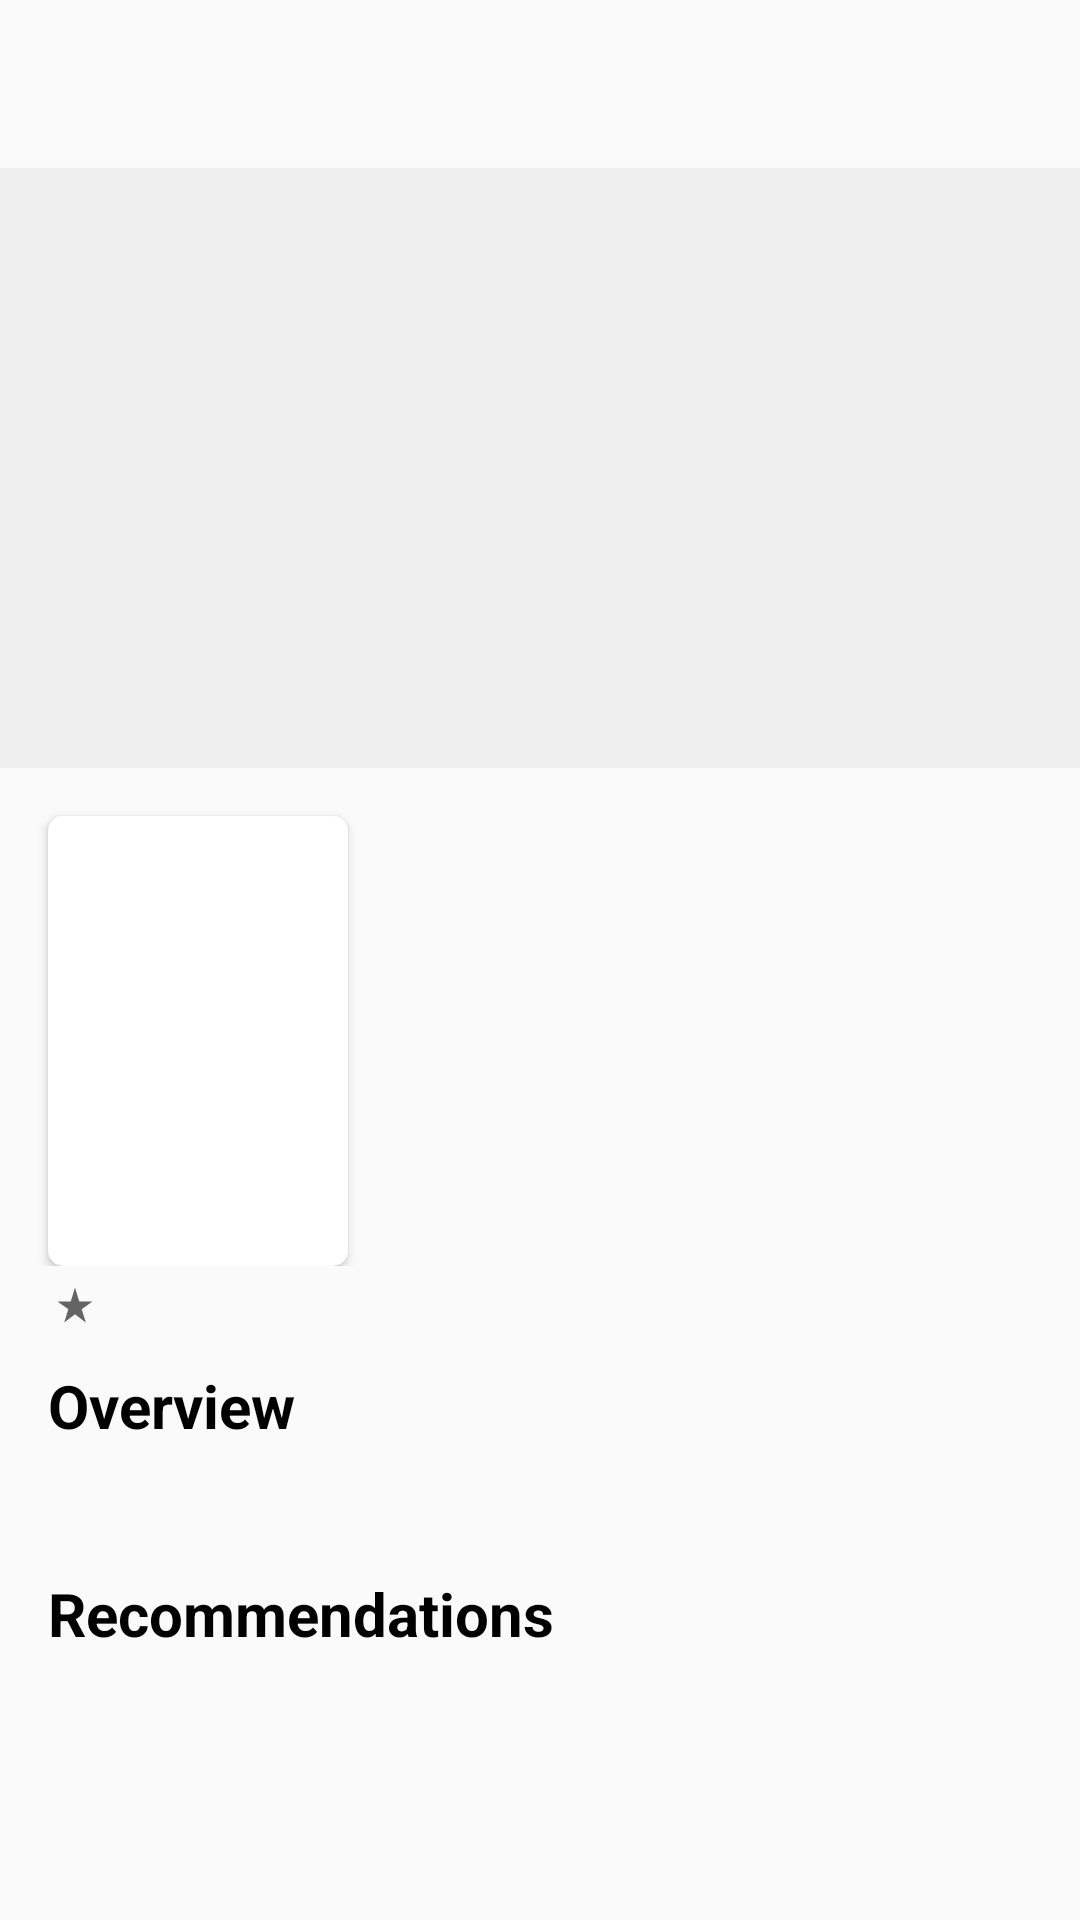

Locate icon controls on the screen. Image size 1080 x 1920, boxes as region(x1, y1, x2, y2).
star rate: region(58, 1288, 92, 1322)
